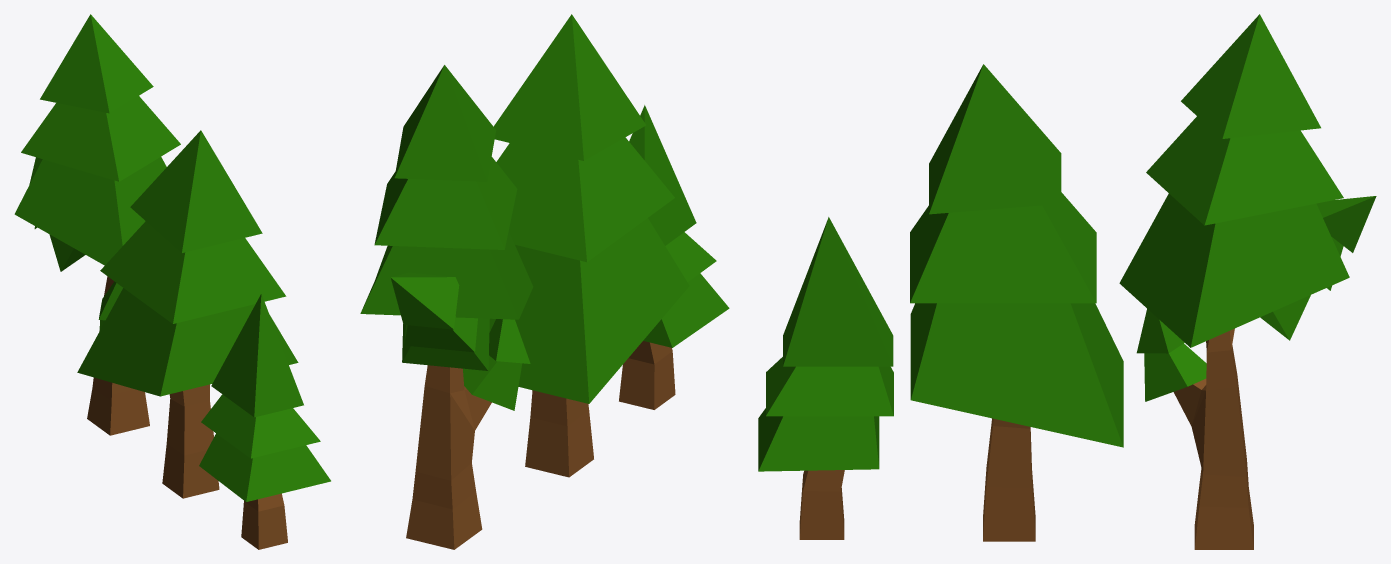
Rendered from Trees1.fbx.
3 renders of one model, left to right at view 1: azimuth 30°, elevation 25°; view 2: azimuth 150°, elevation 25°; view 3: azimuth 270°, elevation 25°, orthographic. The views are drawn at different scales.
Visible parts, largest first — view 1: tree mid.001, tree big.001, tree smol.001; view 2: tree mid.001, tree big.001, tree smol.001; view 3: tree mid.001, tree big.001, tree smol.001.
Boxes of the visible parts, bbox=[...] form: tree mid.001: bbox=[77, 130, 298, 498]; tree big.001: bbox=[14, 14, 180, 435]; tree smol.001: bbox=[199, 294, 330, 549]; tree mid.001: bbox=[489, 14, 689, 477]; tree big.001: bbox=[360, 65, 533, 549]; tree smol.001: bbox=[619, 105, 729, 409]; tree mid.001: bbox=[910, 64, 1123, 541]; tree big.001: bbox=[1119, 14, 1376, 549]; tree smol.001: bbox=[758, 217, 893, 539].
Bounding box in the file's own units: 2.19 × 5.95 × 5.47.
1 material, 1 textured.
